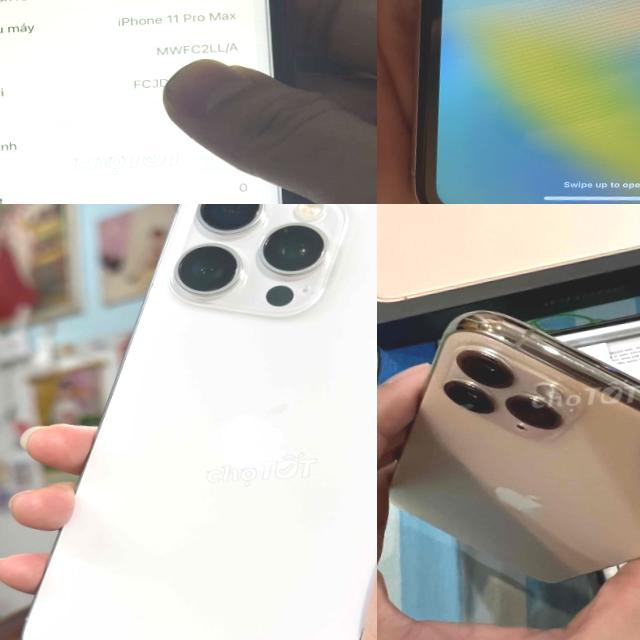gen_11: (377, 283, 640, 604), (0, 0, 323, 204)
gen_16: (23, 204, 377, 640)
gen_x_xs: (383, 0, 640, 204)
